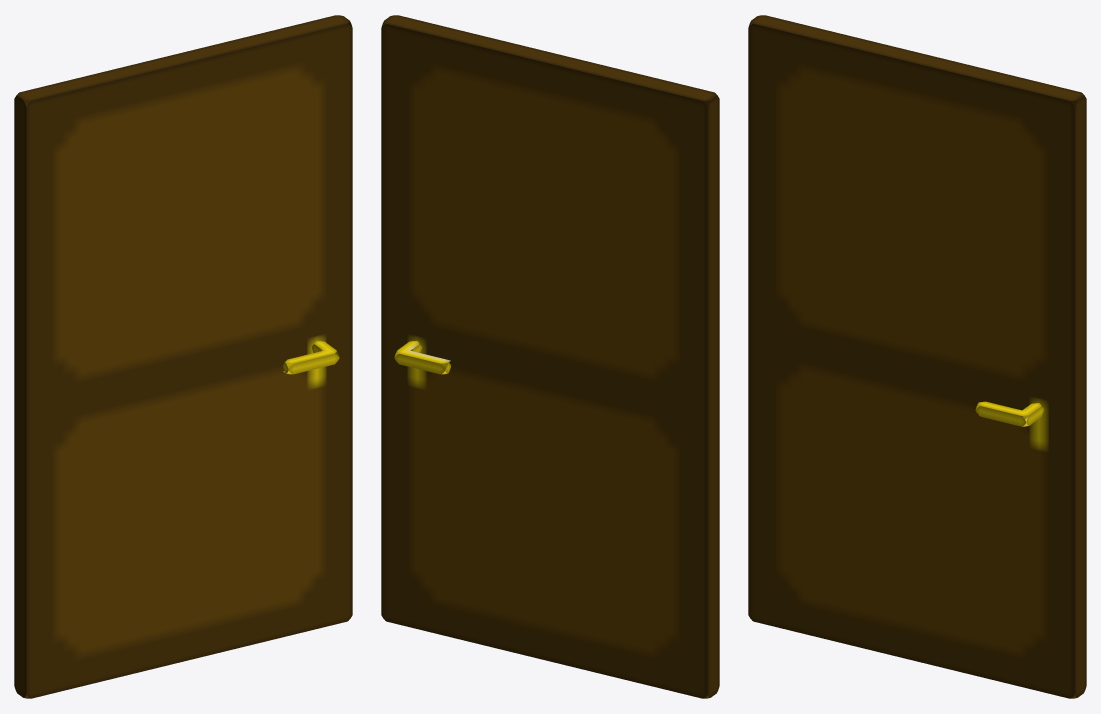
The model's file is Door.fbx.
The picture shows the model from 3 angles, left to right: view 1: azimuth 30°, elevation 25°; view 2: azimuth 150°, elevation 25°; view 3: azimuth 330°, elevation 25°; orthographic projection.
Visible parts, largest first — view 1: cube; view 2: cube; view 3: cube.
Part boxes in pixels (left/top/right/bottom): cube: left=14, top=15, right=352, bottom=698; cube: left=381, top=15, right=719, bottom=698; cube: left=748, top=15, right=1086, bottom=698.
Bounding box in the file's own units: 200 × 350 × 50.
Materials: 1 (1 with a texture image).
